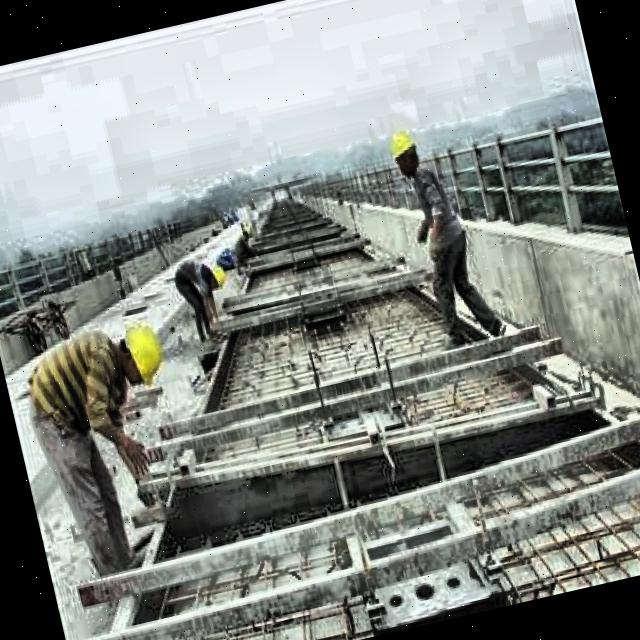helmet: (112, 306, 174, 396), (382, 118, 426, 182), (205, 258, 229, 294)
